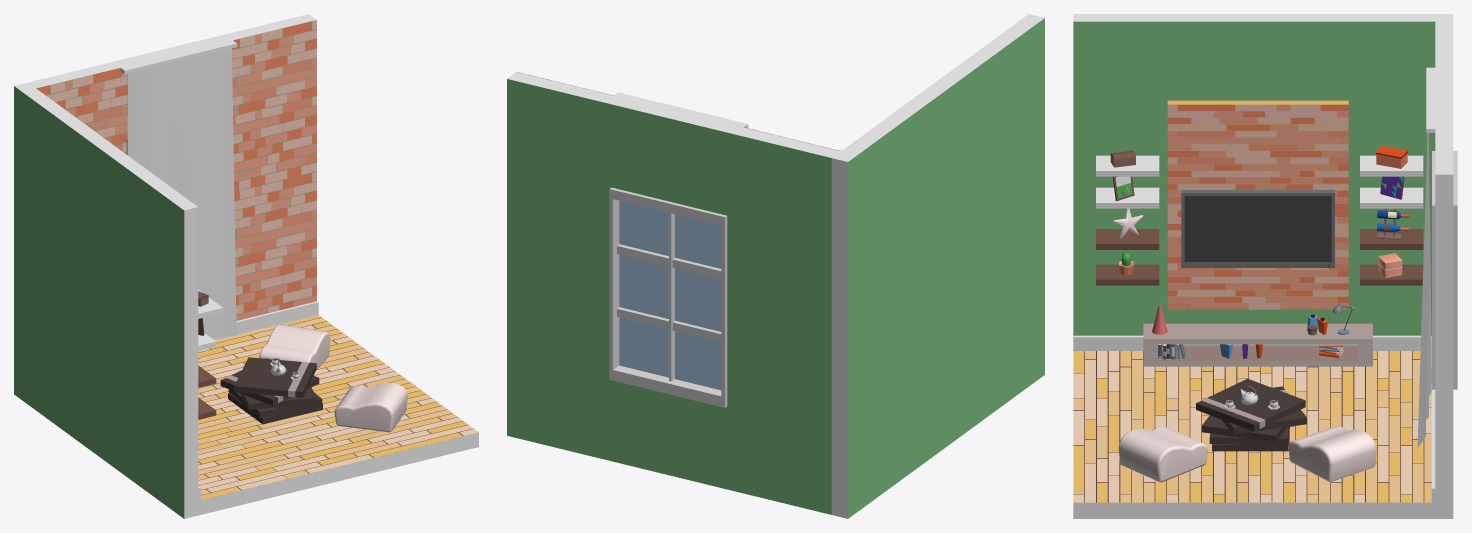
Rendered from room_8.glb.
3 views of the same model, side by side, from view 1: azimuth 30°, elevation 25°; view 2: azimuth 150°, elevation 25°; view 3: azimuth 270°, elevation 25° (orthographic). The views are drawn at different scales.
Visible parts, largest first — view 1: Walls_080.002, floor_003.004, floor_011.002, Curtains_009.001, Walls_056.003, coffee_table_010.001, Walls_080.001, floor_003.005, ottoman_013.002, ottoman_013.001, Walls_080.003, Walls_003.049 (+2 smaller); view 2: Walls_080.002, Walls_080.003, Walls_080.001, window_020.005, Walls_080.005, Walls_080.004, Walls_003.050; view 3: Walls_080.002, floor_011.002, floor_003.003, electronics_034.002, Walls_056.003, tv_wall_021.002, Walls_080.001, coffee_table_010.001, Walls_024.001, ottoman_013.002, ottoman_013.001, Curtains_009.001 (+19 smaller).
Part boxes in pixels (x1,y1,x2,y2): Walls_080.002: (14, 82, 198, 518); floor_003.004: (232, 20, 316, 320); floor_011.002: (198, 315, 478, 499); Curtains_009.001: (127, 48, 236, 337); Walls_056.003: (198, 317, 478, 515); coffee_table_010.001: (220, 357, 322, 424); Walls_080.001: (218, 14, 316, 314); floor_003.005: (36, 68, 127, 154); ottoman_013.002: (334, 382, 407, 432); ottoman_013.001: (259, 324, 329, 370); Walls_080.003: (28, 60, 127, 152); Walls_003.049: (212, 301, 318, 340); Walls_080.002: (831, 14, 1044, 518); Walls_080.003: (726, 125, 840, 514); Walls_080.001: (507, 72, 621, 461); window_020.005: (609, 187, 727, 407); Walls_080.005: (612, 98, 735, 215); Walls_080.004: (612, 380, 726, 488); Walls_003.050: (614, 92, 748, 128); Walls_080.002: (1073, 14, 1453, 335); floor_011.002: (1073, 351, 1431, 502); floor_003.003: (1167, 104, 1348, 309); electronics_034.002: (1181, 190, 1334, 267); Walls_056.003: (1073, 351, 1435, 518); tv_wall_021.002: (1143, 323, 1372, 366); Walls_080.001: (1435, 125, 1453, 518); coffee_table_010.001: (1196, 378, 1306, 451); Walls_024.001: (1167, 100, 1348, 309); ottoman_013.002: (1118, 426, 1207, 482); ottoman_013.001: (1288, 426, 1376, 482); Curtains_009.001: (1417, 133, 1431, 447).
Size of the model in its own units: 4.2 by 4.2 by 4.25.
1 material, 1 textured.
